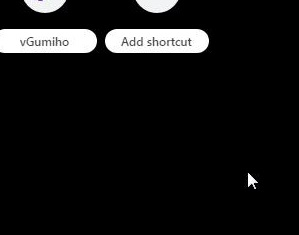cursor: (245, 170, 259, 190)
